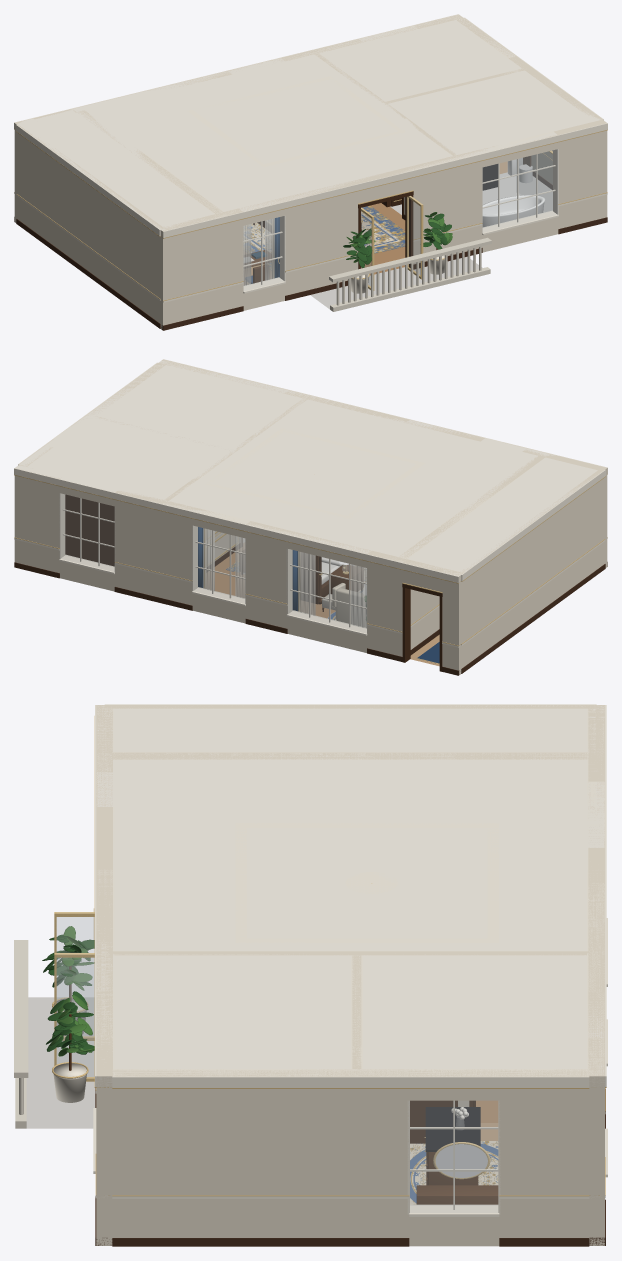
Rendered from hades-bedroom.glb.
3 renders of one model, top to bottom at view 1: azimuth 30°, elevation 25°; view 2: azimuth 150°, elevation 25°; view 3: azimuth 270°, elevation 25°, orthographic. The views are drawn at different scales.
Parts seen in each view (by area): view 1: plane, box.567, plane.009, box.078, box.605, box.091, box.101, box.110, box.071, box.061, plane.006, plane.004 (+27 smaller); view 2: plane, box.567, plane.009, box.037, box.010, box.055, box.019, box.047, box.029, box, box.624, box.573 (+34 smaller); view 3: plane, box.152, plane.009, box.135, box.145, plane.004, box.156, box.110, box.055, box.306, box.141, box.153 (+37 smaller).
Part boxes in pixels (box(x1,y1,x2,y2)): plane: box(73, 14, 601, 214); box.567: box(17, 124, 164, 321); plane.009: box(17, 109, 217, 230); box.078: box(280, 180, 360, 295); box.605: box(158, 214, 220, 329); box.091: box(406, 150, 482, 264); box.101: box(482, 150, 557, 232); box.110: box(554, 119, 607, 228); box.071: box(244, 216, 283, 290); box.061: box(216, 208, 243, 311); plane.006: box(244, 205, 405, 269); plane.004: box(310, 256, 482, 309); plane: box(15, 360, 548, 560); box.567: box(458, 470, 604, 668); plane.009: box(405, 454, 600, 576); box.037: box(115, 491, 197, 605); box.010: box(288, 549, 366, 632); box.055: box(14, 464, 61, 573); box.019: box(246, 521, 291, 628); box.047: box(60, 494, 114, 571); box.029: box(193, 526, 245, 603); box: box(367, 550, 405, 656); box.624: box(65, 496, 114, 566); box.573: box(440, 568, 462, 675); plane: box(97, 753, 604, 1076); box.152: box(112, 1069, 409, 1237); plane.009: box(97, 705, 604, 752); box.135: box(499, 1069, 589, 1237); box.145: box(410, 1101, 498, 1212); plane.004: box(26, 997, 95, 1128); box.156: box(112, 1069, 409, 1087); box.110: box(96, 1035, 112, 1245); box.055: box(588, 1038, 604, 1245); box.306: box(56, 912, 94, 1036); box.141: box(409, 1217, 499, 1246); box.153: box(112, 1238, 409, 1246).
Bounding box in the file's own units: 15.12 × 3.22 × 10.15.
Materials: 59 (5 with a texture image).
